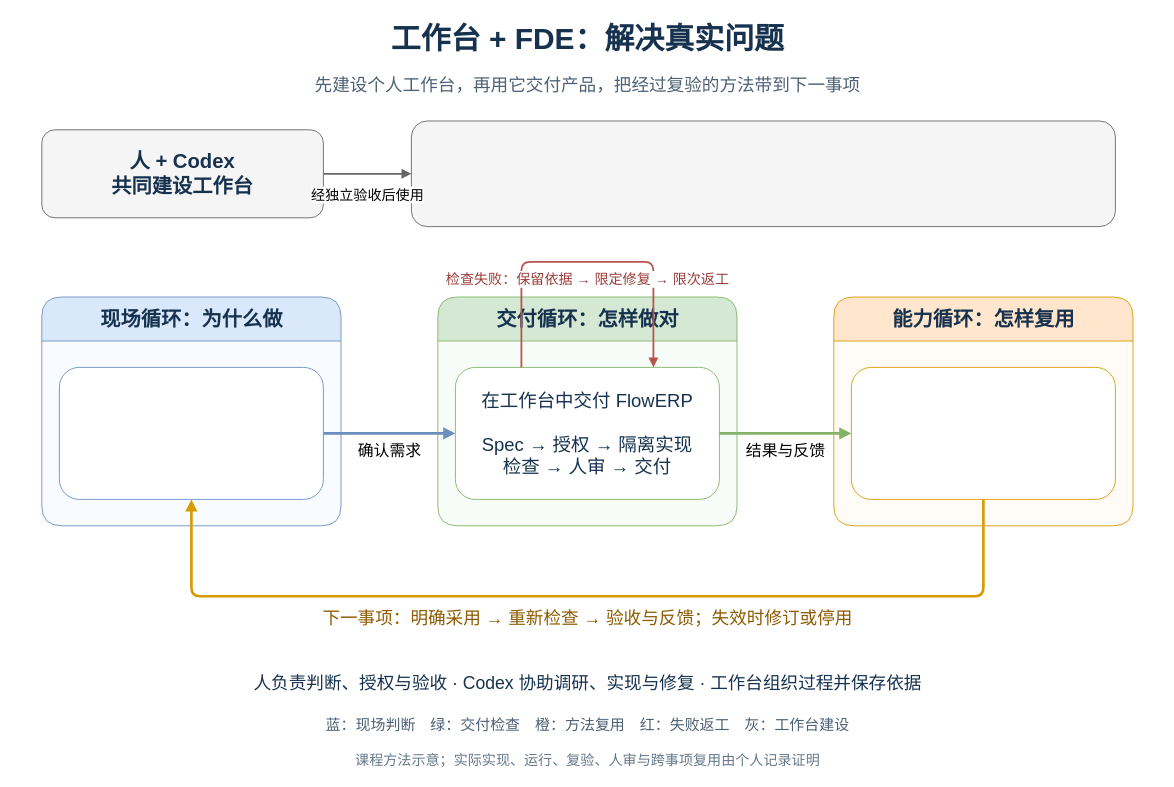
The diagram is 1174 pixels wide and 787 high, and some of its shapes have lost their labels. The shapes that lost their labels are listed below. From the top down, each one's centre as x and y in pixels, then its label:
At [763,173]: "个人 AI 研发工作台 组织需求、授权、执行、检查、人审与反馈 Harness + 记忆系统 + 工作流蒸馏".
At [191,433]: "找到真实问题 核对来源、输入与现状 确认对象、范围与验收标准".
At [983,433]: "从结果提炼方法 保存来源、版本与适用条件 经审核后供下一事项采用".
